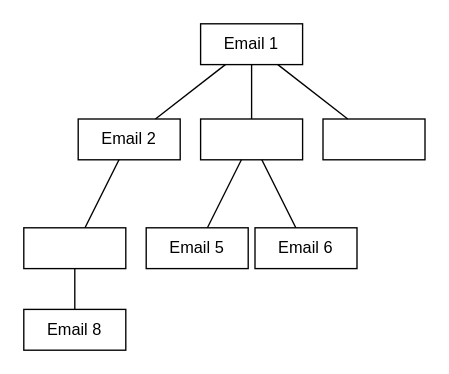
The diagram is 449 pixels wide and 374 high, and some of its shapes have lost their labels. The shapes that lost their labels are listed below. From the top down, each one's centre as x and y in pixels, then its label:
the point at 251,139: Email 3
the point at 373,139: Email 4
the point at 74,247: Email 7
